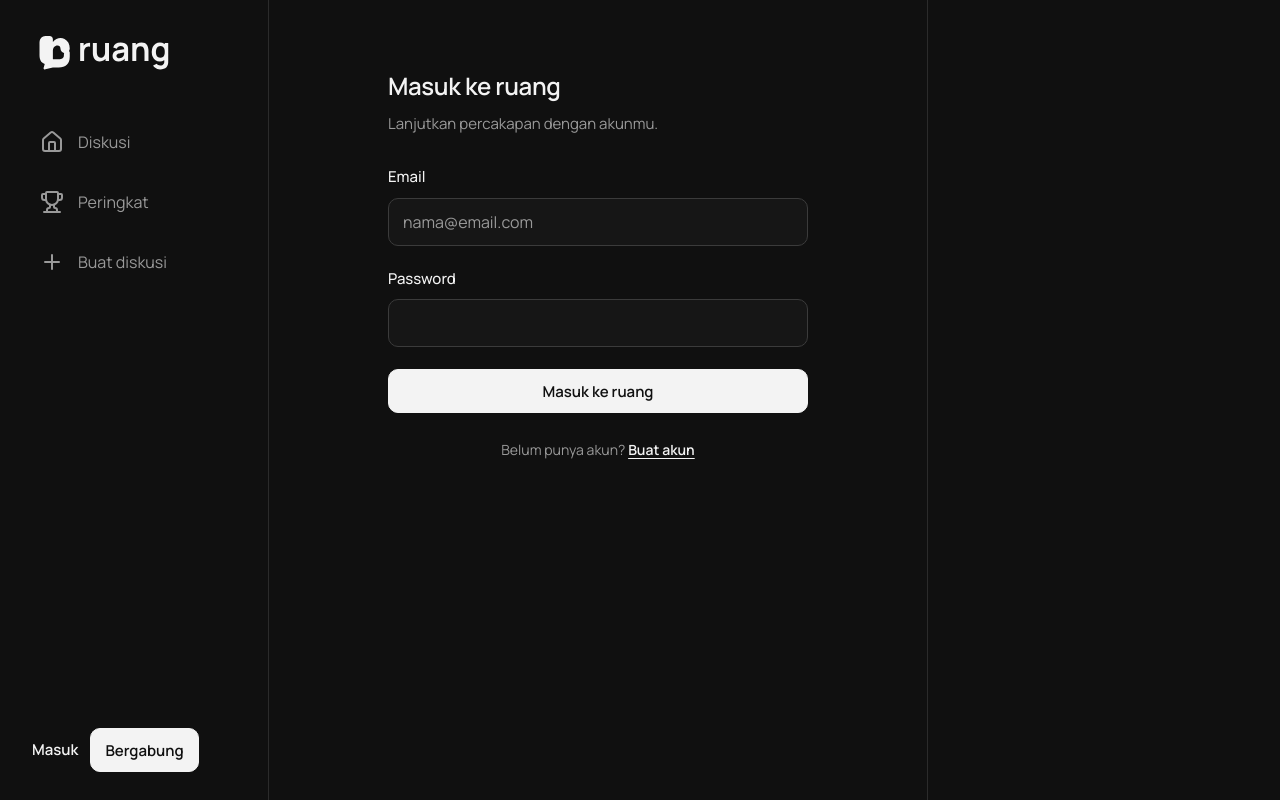
Test case: alur login Ruang Diskusi › menampilkan kegagalan kredensial dan memungkinkan percobaan ulang
Type "e2e@example.com" into the field with id "login-email" at (598, 222), box [388,198,808,246]
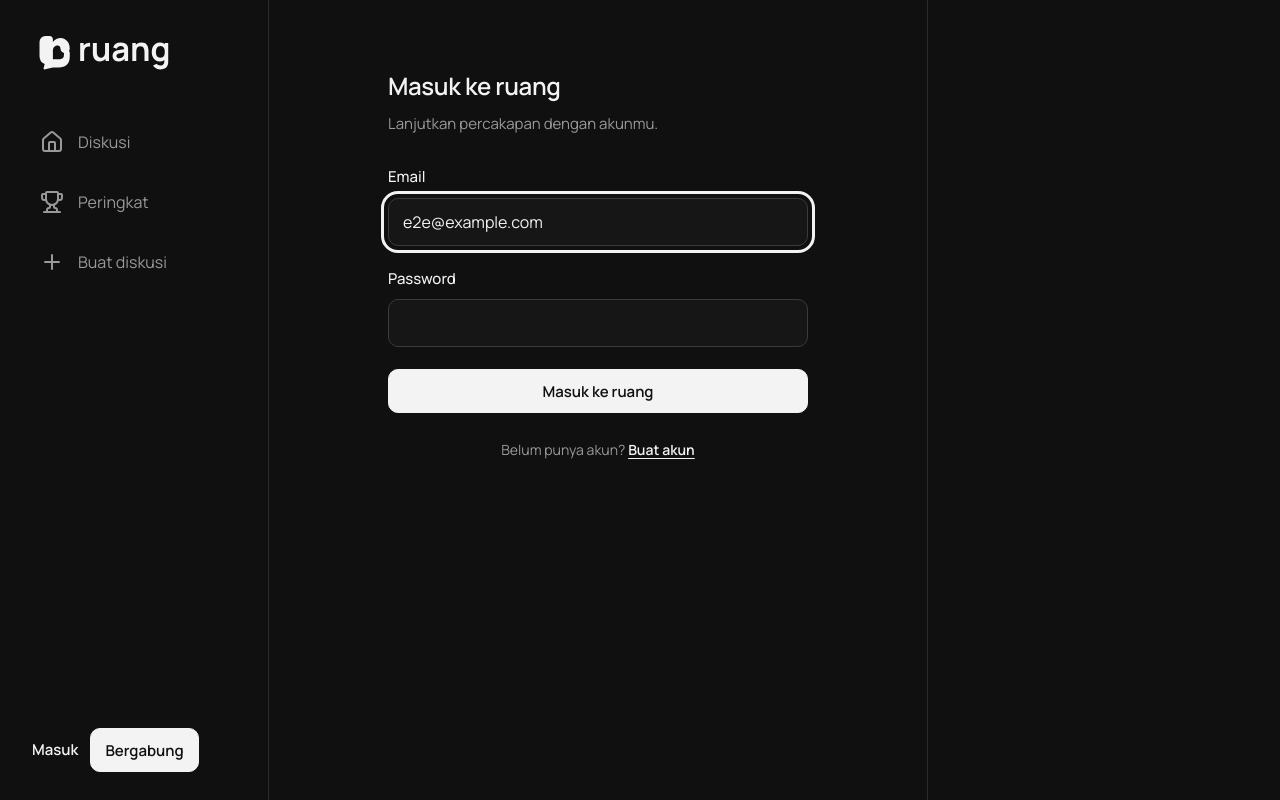
Type "test-password" into the password field with id "login-password" at (598, 323), box [388,299,808,347]
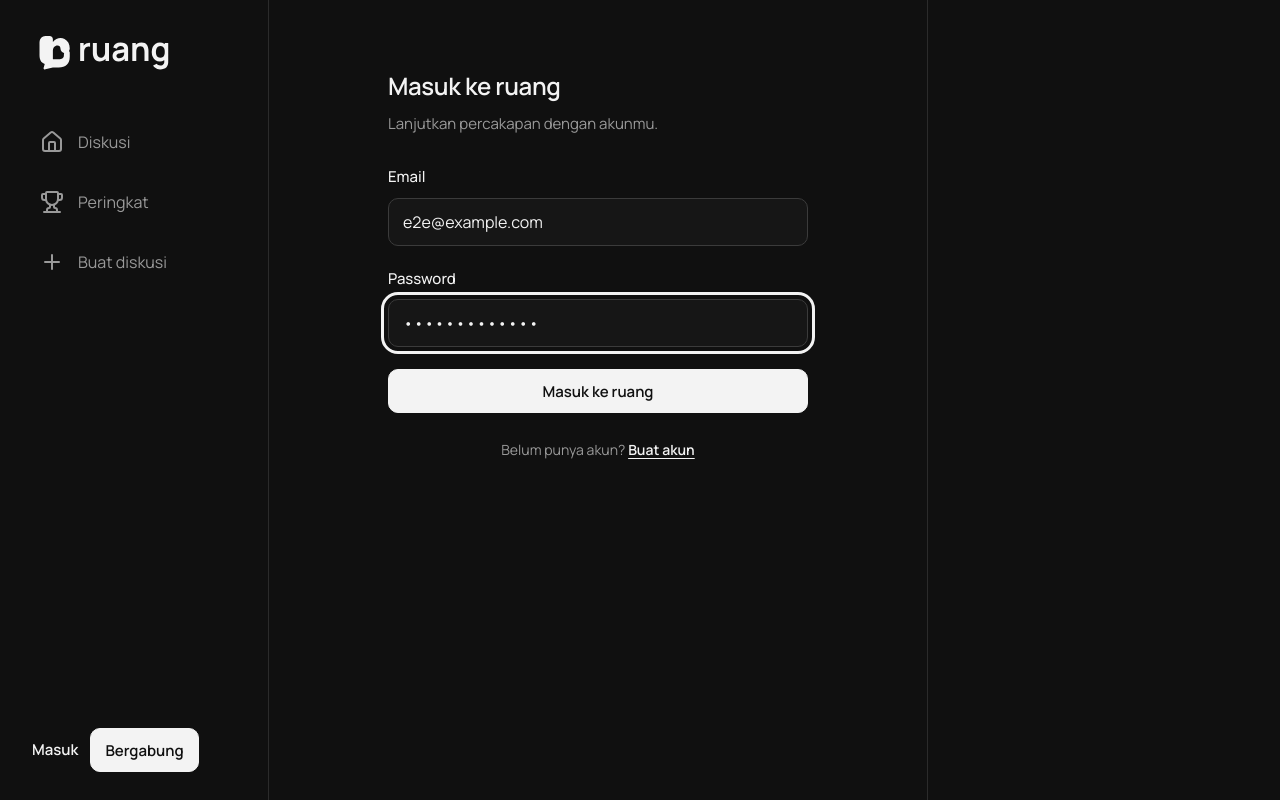
Click the submit button at (598, 391), box [388,369,808,413]
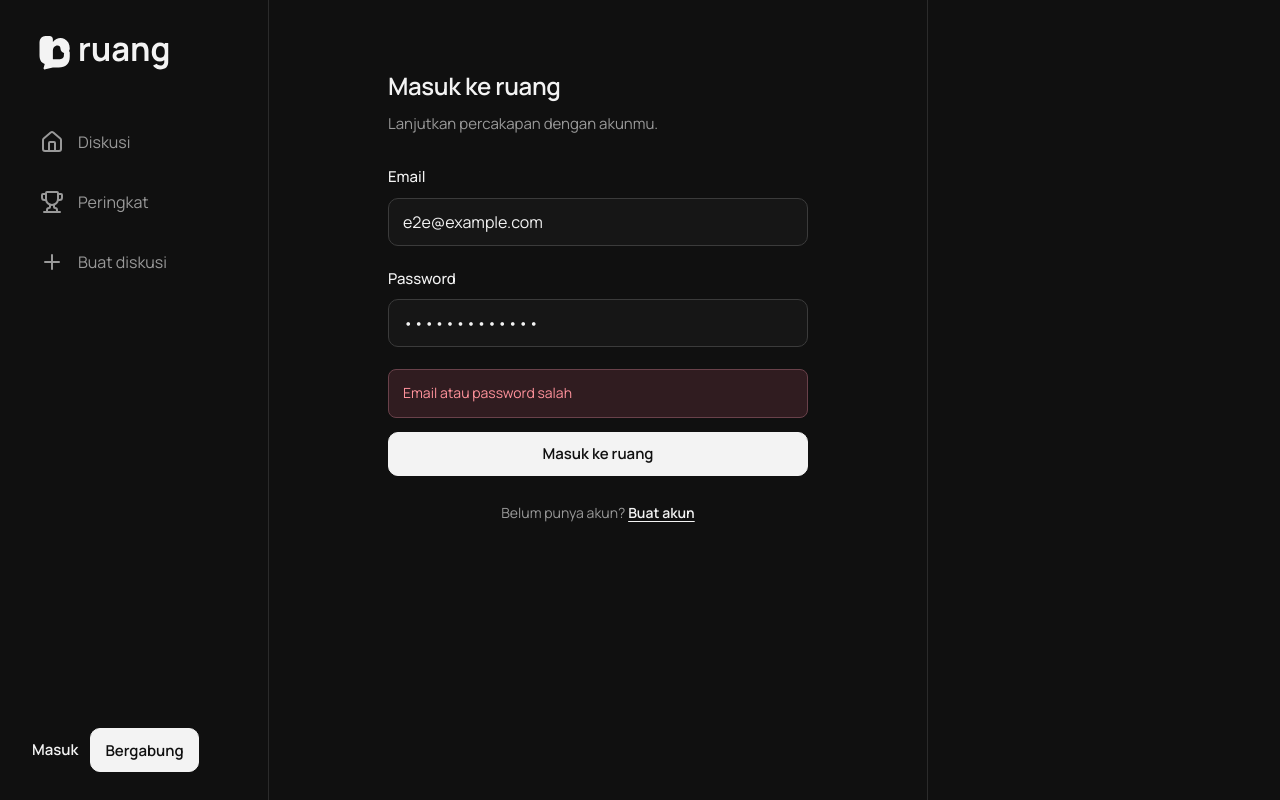
Expected: the submit button is enabled, [388,432,808,476]
Result: the message "Email atau password salah" is shown at [388,369,808,418]
